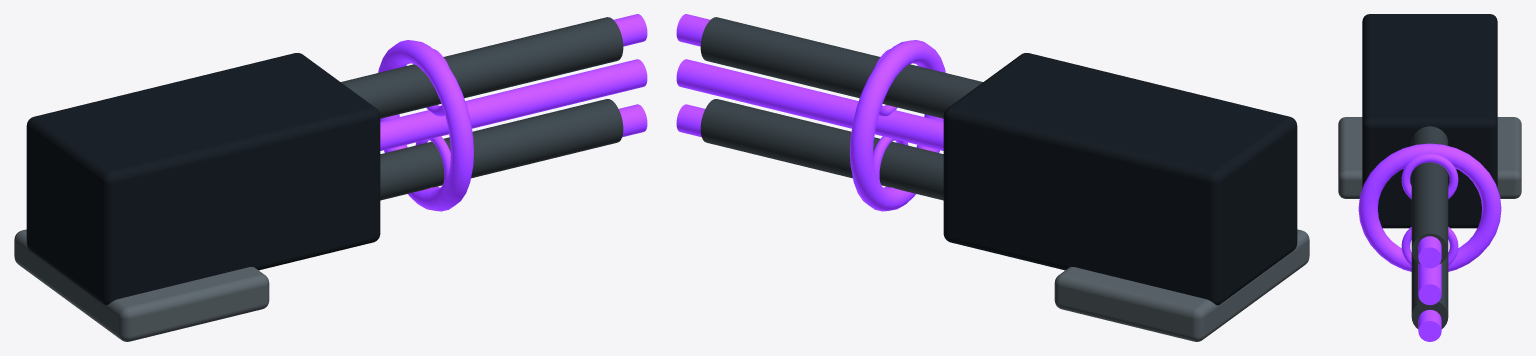
3 renders of one model, left to right at view 1: azimuth 30°, elevation 25°; view 2: azimuth 150°, elevation 25°; view 3: azimuth 270°, elevation 25°, orthographic. The views are drawn at different scales.
Size of the model in its own units: 5.6 by 1.6 by 1.9.
